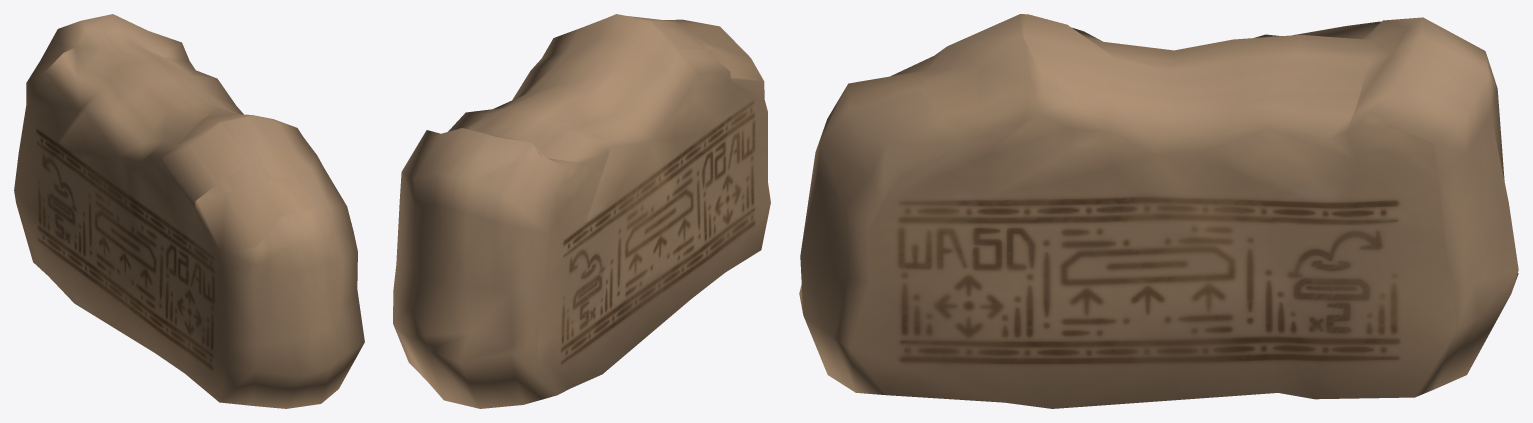
Rendered from InstructionalJeroglyph 1.fbx.
3 renders of one model, left to right at view 1: azimuth 30°, elevation 25°; view 2: azimuth 150°, elevation 25°; view 3: azimuth 270°, elevation 25°, orthographic. The views are drawn at different scales.
Visible parts, largest first — view 1: Cube; view 2: Cube; view 3: Cube.
Boxes of the visible parts, left/top/right/bottom form: Cube: left=14, top=14, right=364, bottom=408; Cube: left=393, top=14, right=770, bottom=408; Cube: left=799, top=14, right=1518, bottom=408.
Bounding box in the file's own units: 238 × 393 × 749.
Materials: 1 (1 with a texture image).
